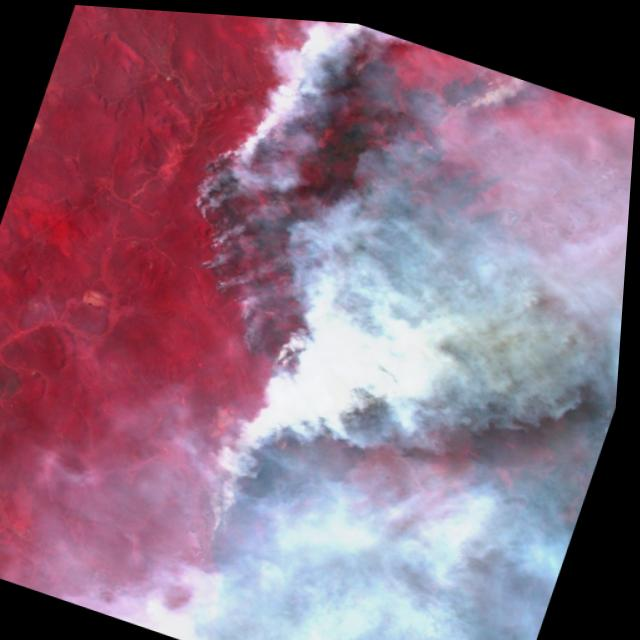fire: (48, 4, 522, 640)
